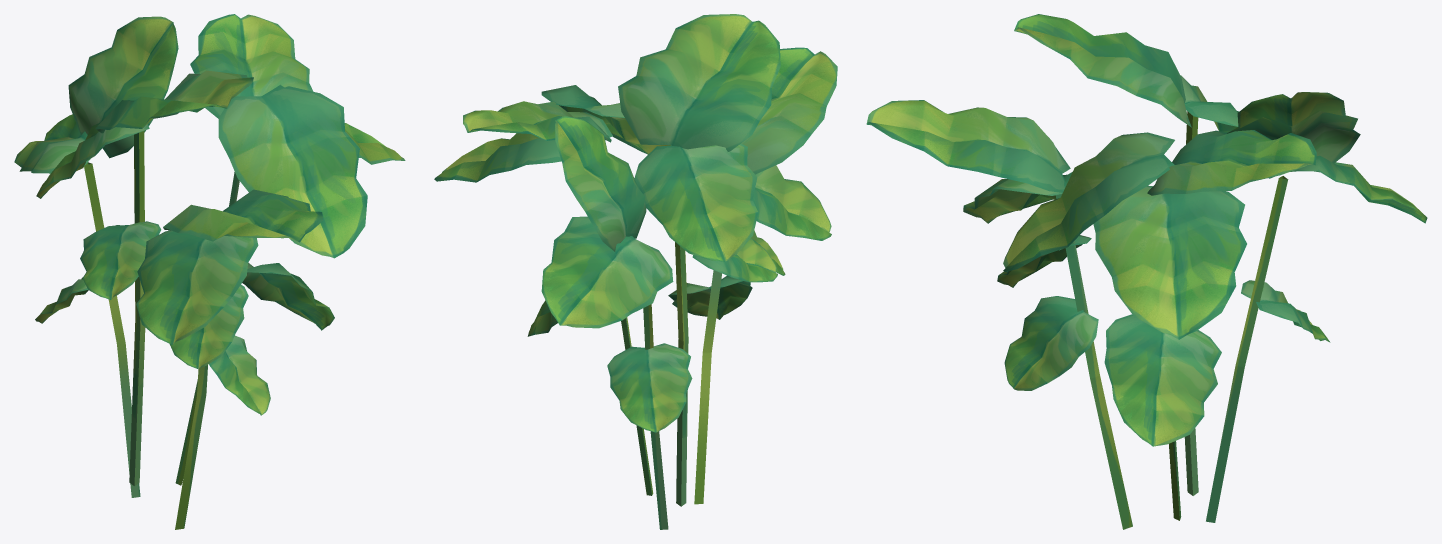
The model's file is mesh_cafeier.fbx.
3 renders of one model, left to right at view 1: azimuth 30°, elevation 25°; view 2: azimuth 150°, elevation 25°; view 3: azimuth 270°, elevation 25°, orthographic. The views are drawn at different scales.
Visible parts, largest first — view 1: cafeier; view 2: cafeier; view 3: cafeier.
Part boxes in pixels (x1,y1,x2,y2): cafeier: (14, 14, 405, 529); cafeier: (434, 14, 837, 529); cafeier: (866, 14, 1427, 529).
Size of the model in its own units: 0.383 by 0.5006 by 0.5065.
